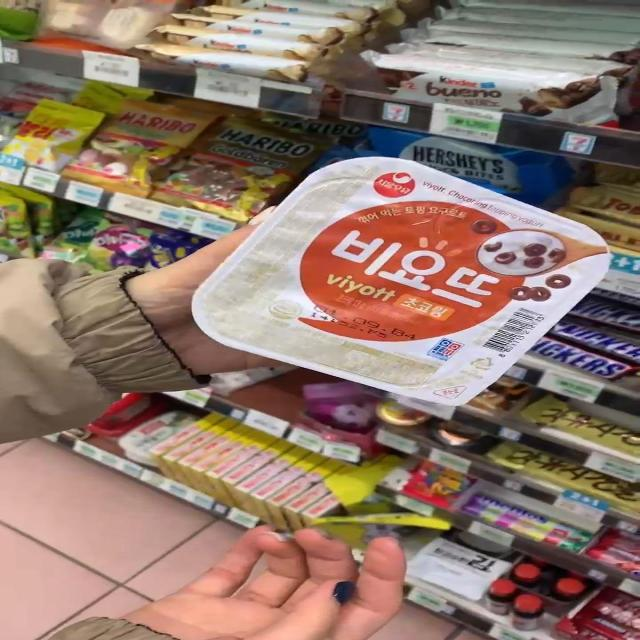bYott: (193, 158, 611, 406)
